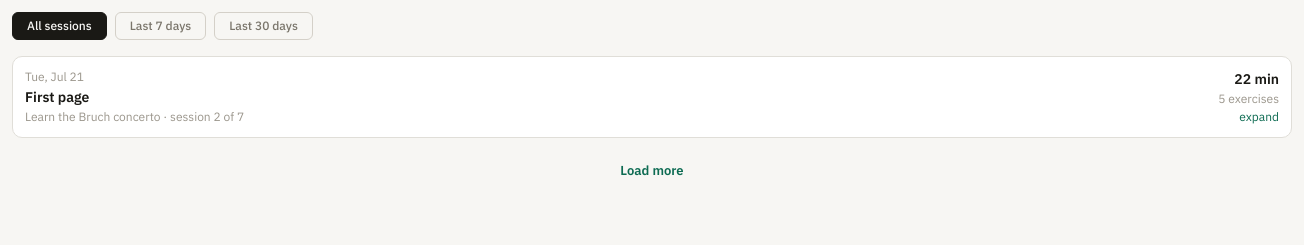
HistoryList › appends the next page when loading more
Expected: the heading "First page" is shown, [25,88,89,106]
Click the button "Load more" at (652, 171), box [612,154,692,188]
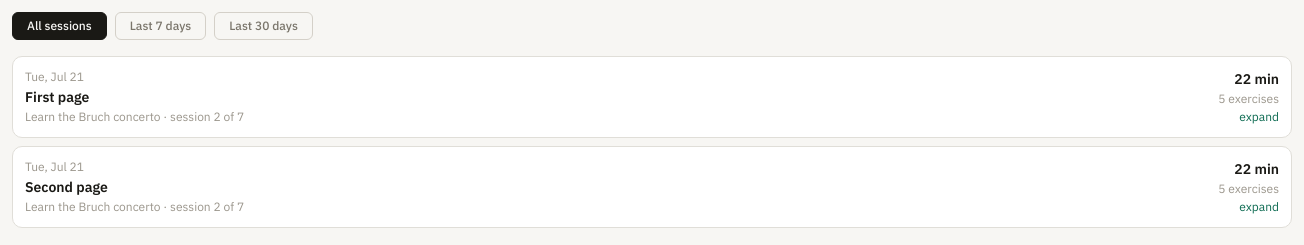
Expected: the heading "First page" is shown, [25,88,89,106]
Expected: the heading "Second page" is shown, [25,178,108,196]
Expected: the button "Load more" is gone
